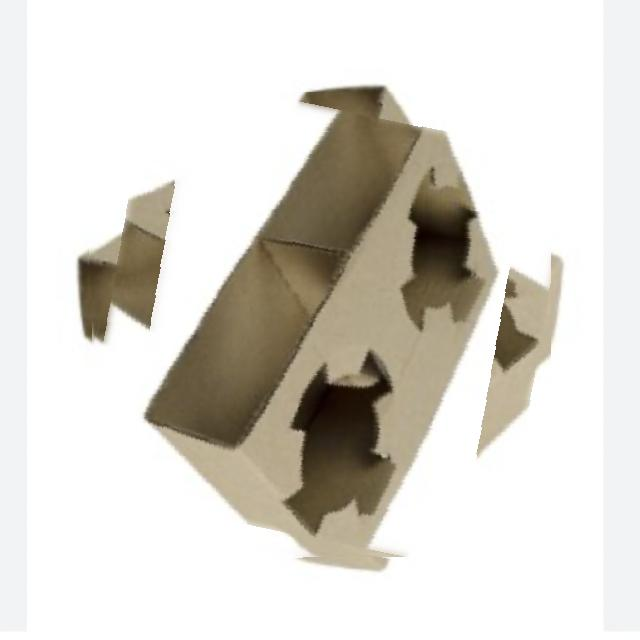biodegradable: (83, 92, 551, 559)
